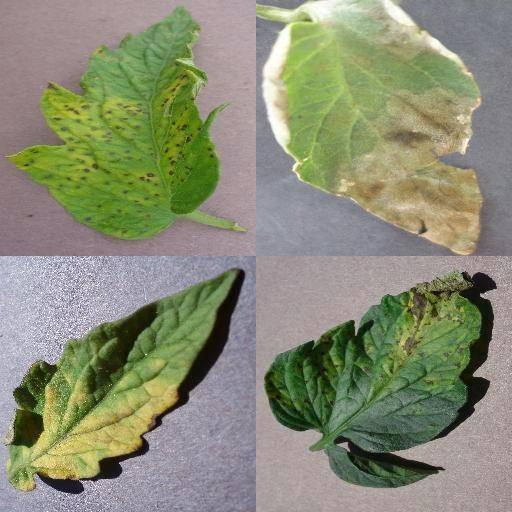Late Blight: (263, 0, 485, 256)
Leaf Mold: (6, 269, 240, 493)
Septoria: (8, 5, 218, 241), (264, 269, 480, 453)
